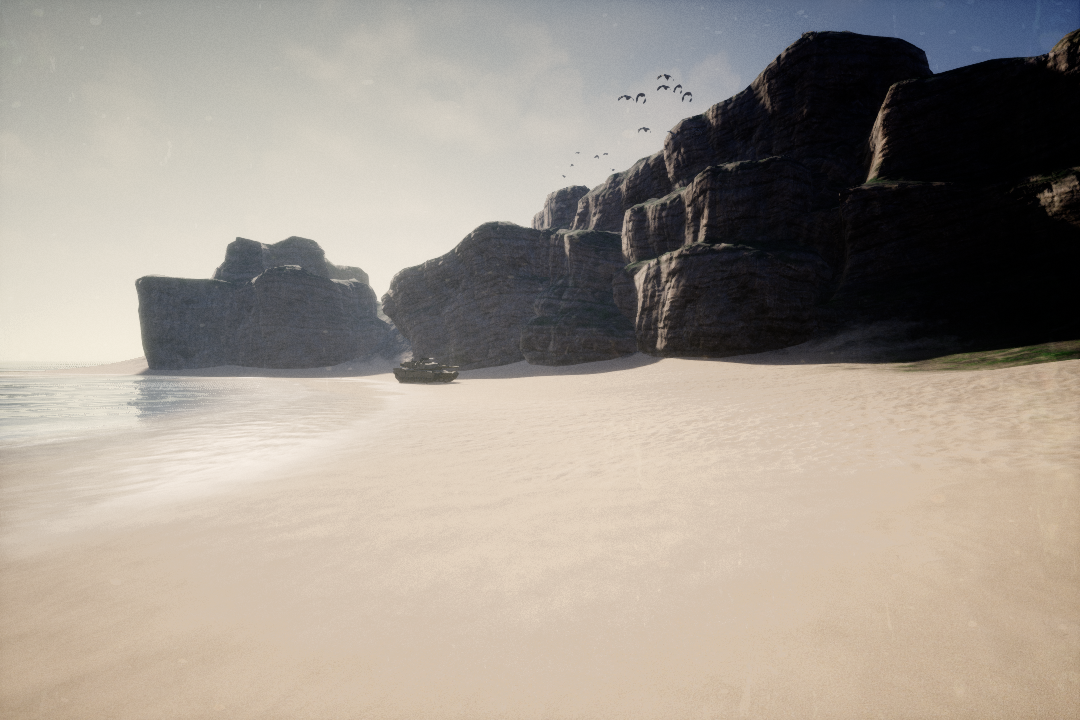tank: (391, 357, 464, 387)
